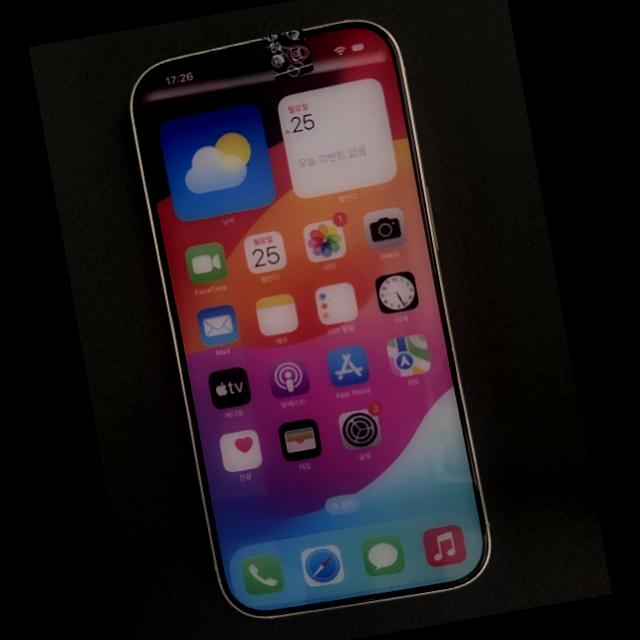phone: (132, 21, 489, 615)
sticker: (261, 27, 314, 81)
